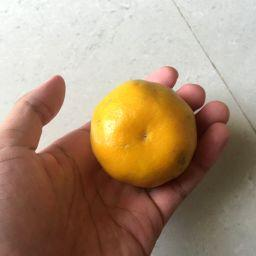Ripe: (90, 79, 195, 187)
